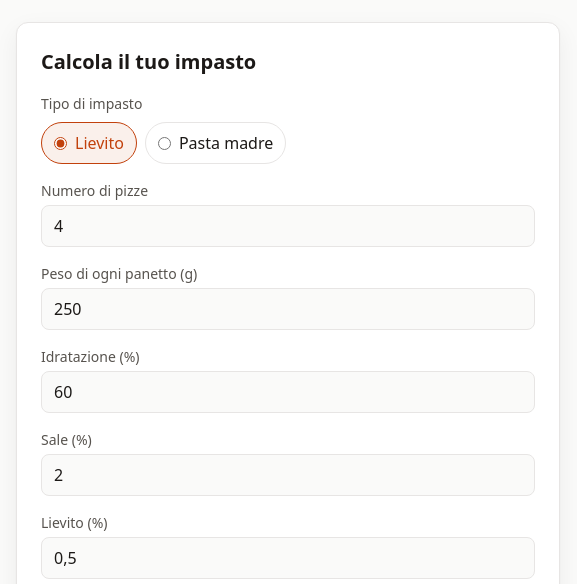
App › calculates sourdough dough after switching mode
Step 1. Click the radio button labelled "Pasta madre" → (164, 143), box left=158, top=136, right=171, bottom=150
(page scrolled)
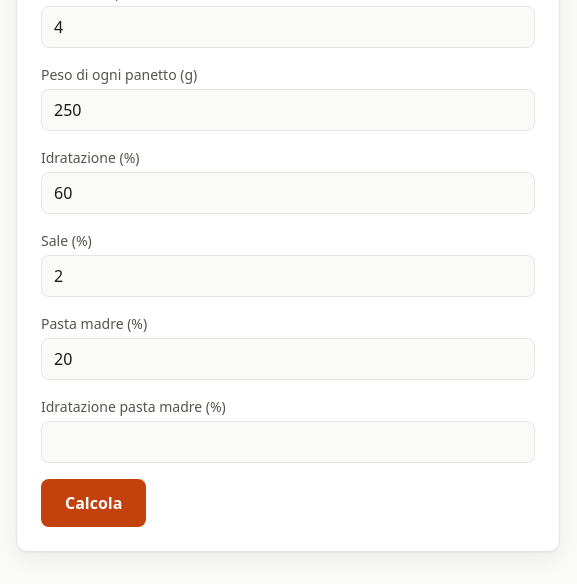
Step 2. Click the button "Calcola" → (94, 503), box left=41, top=479, right=146, bottom=527
(page scrolled)
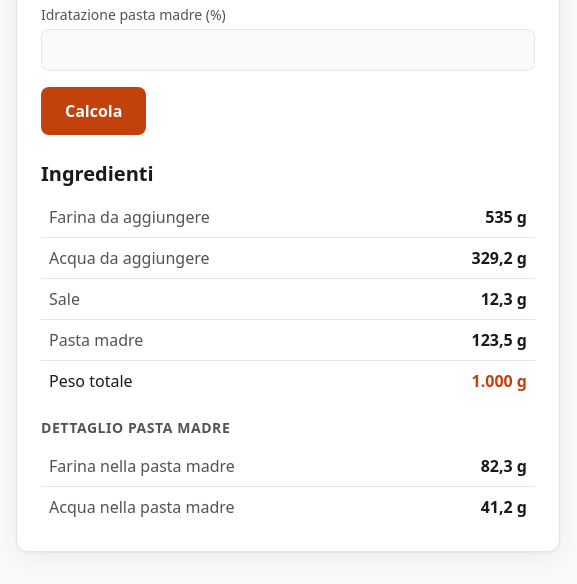
Expected: the column heading "Farina da aggiungere" is shown, left=41, top=197, right=393, bottom=238
Expected: the heading "Dettaglio pasta madre" is shown, left=41, top=418, right=230, bottom=437
